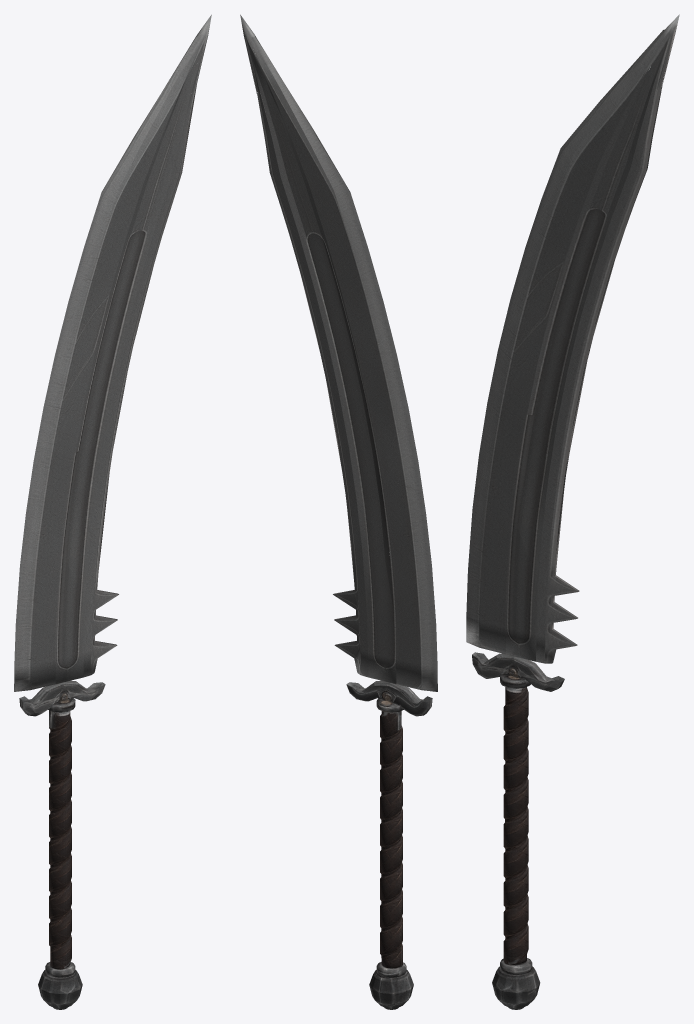
File: mm6_kni_sword.glb
The picture shows the model from 3 angles, left to right: view 1: azimuth 30°, elevation 25°; view 2: azimuth 150°, elevation 25°; view 3: azimuth 330°, elevation 25°; orthographic projection. The views are drawn at different scales.
Parts seen in each view (by area): view 1: Sword; view 2: Sword; view 3: Sword.
Part boxes in pixels (x1,y1,x2,y2): Sword: [14, 14, 211, 1009]; Sword: [240, 14, 437, 1009]; Sword: [466, 14, 679, 1009].
Bounding box in the file's own units: 0.235 × 1.09 × 0.046.
Materials: 1 (1 with a texture image).
